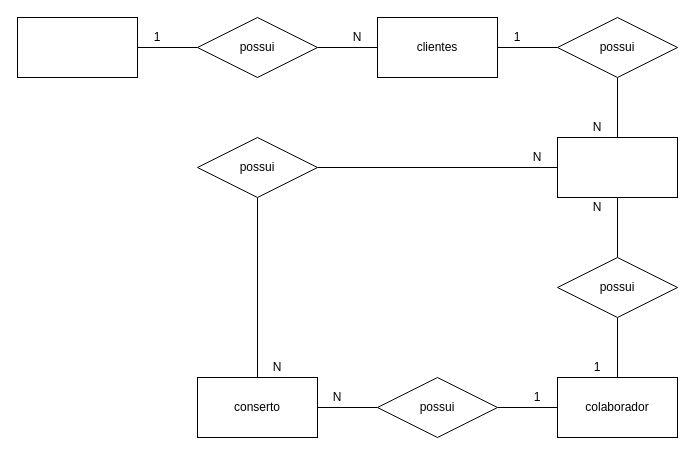
Image size: 695x455. Some labels were removed from this diagram. Here are the shapes that lost their labels. From the top down, the centre of each, then its label:
the point at 77,47: empresa
the point at 617,167: equipamento
